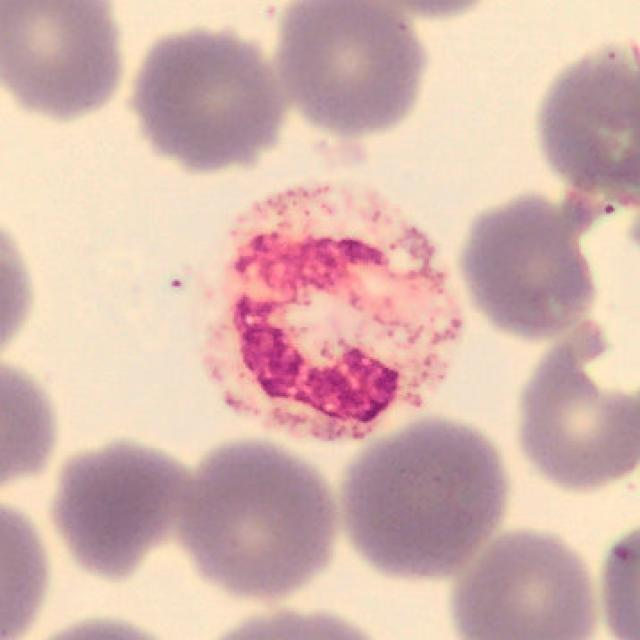Restos celulares: (191, 181, 465, 444)
